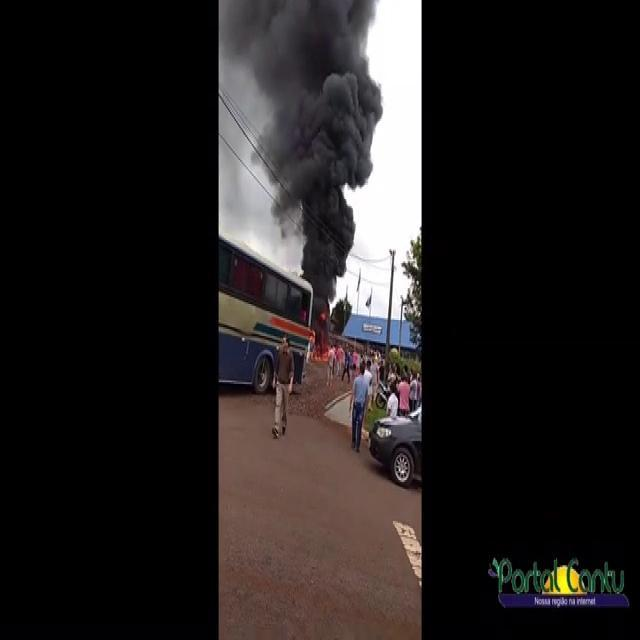Fire: (313, 343, 329, 363)
Smoke: (227, 8, 385, 288)
